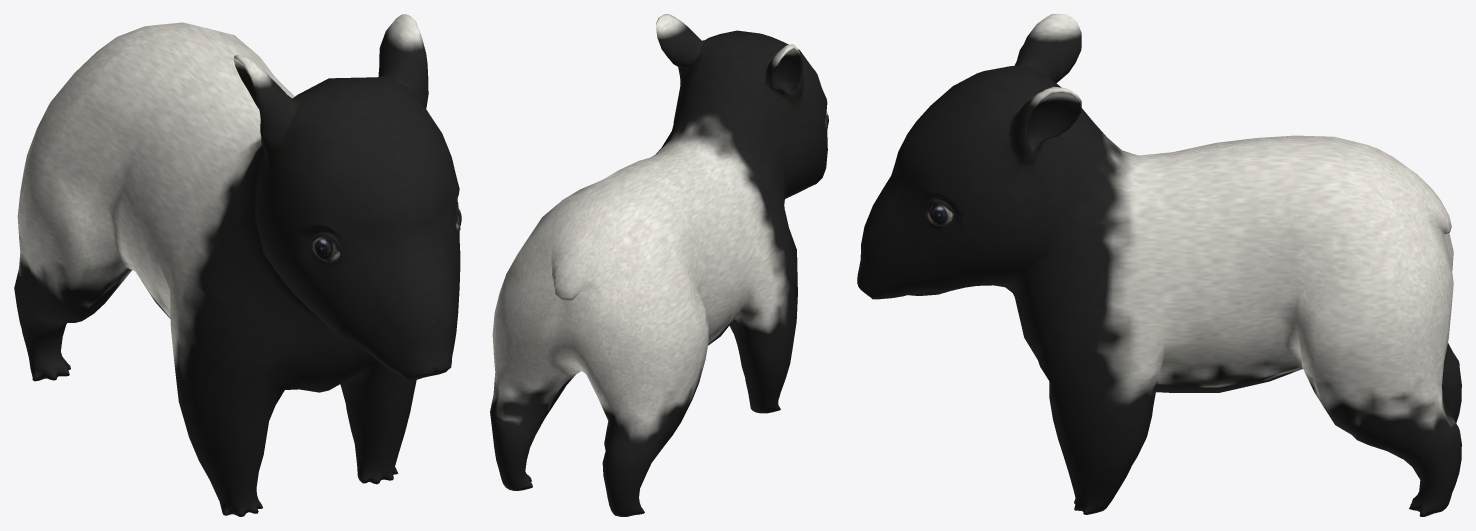
Rendered from ccby-malayan-tapir.glb.
The picture shows the model from 3 angles, left to right: view 1: azimuth 30°, elevation 25°; view 2: azimuth 150°, elevation 25°; view 3: azimuth 270°, elevation 25°; orthographic projection. The views are drawn at different scales.
Visible parts, largest first — view 1: defaultMaterial (×2); view 2: defaultMaterial; view 3: defaultMaterial.
Part boxes in pixels (left/top/right/bottom): defaultMaterial (×2): left=14, top=14, right=461, bottom=516; defaultMaterial: left=490, top=14, right=827, bottom=516; defaultMaterial: left=857, top=14, right=1461, bottom=516.
Size of the model in its own units: 0.2873 by 0.5123 by 0.6597.
Materials: 2 (2 with a texture image).
